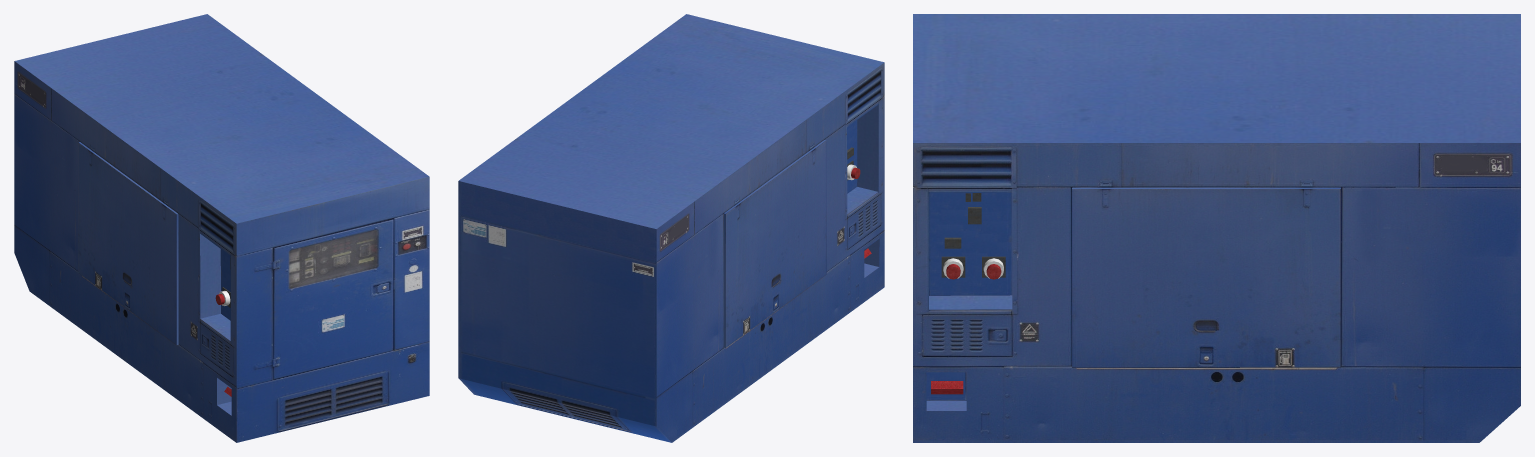
The model's file is gerador.FBX.
3 renders of one model, left to right at view 1: azimuth 30°, elevation 25°; view 2: azimuth 150°, elevation 25°; view 3: azimuth 270°, elevation 25°, orthographic. The views are drawn at different scales.
Visible parts, largest first — view 1: Generator_01, Panel_01; view 2: Generator_01, Panel_01; view 3: Generator_01, Panel_02.
Part boxes in pixels (bbox=[...]): Generator_01: bbox=[14, 14, 429, 442]; Panel_01: bbox=[78, 142, 178, 345]; Generator_01: bbox=[458, 14, 884, 442]; Panel_01: bbox=[724, 139, 826, 347]; Generator_01: bbox=[913, 14, 1520, 442]; Panel_02: bbox=[1072, 187, 1341, 367].
Size of the model in its own units: 38.98 by 41.55 by 76.27.
Materials: 1 (1 with a texture image).
